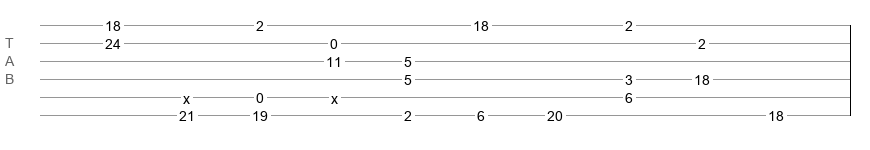0: (256, 90, 264, 100), (330, 36, 338, 46)
11: (326, 54, 342, 64)
18: (105, 18, 121, 28), (473, 18, 489, 28), (694, 72, 710, 82), (768, 108, 784, 118)
19: (252, 108, 268, 118)
2: (256, 18, 264, 28), (404, 108, 412, 118), (625, 18, 633, 28), (698, 36, 706, 46)
20: (547, 108, 563, 118)
21: (179, 108, 195, 118)
24: (105, 36, 121, 46)
3: (625, 72, 633, 82)
5: (404, 54, 412, 64), (404, 72, 412, 82)
6: (477, 108, 485, 118), (625, 90, 633, 100)
x: (183, 91, 190, 99), (331, 91, 338, 99)
